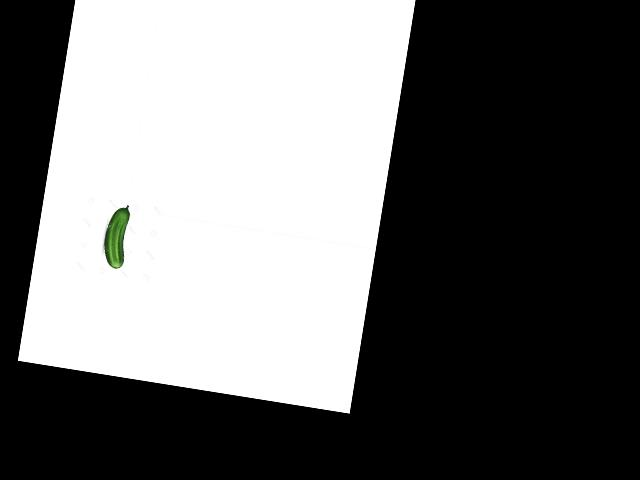cucumber: (100, 202, 132, 269)
